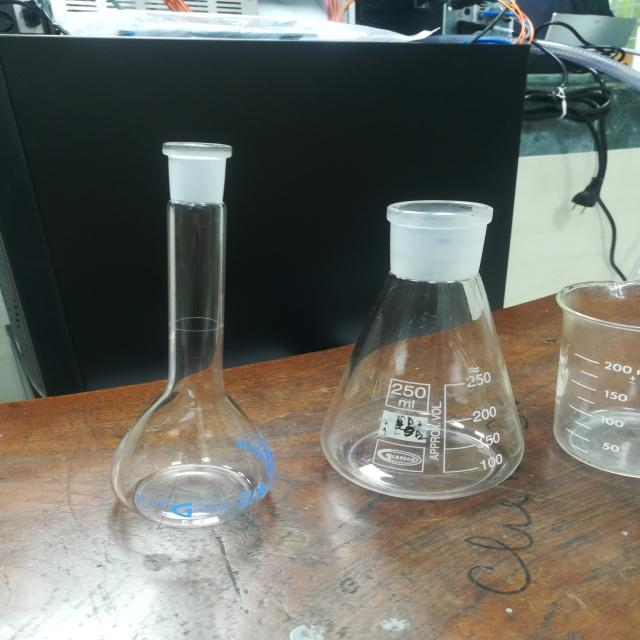Beaker: (540, 208, 640, 498)
Conical_Flask: (306, 187, 533, 519)
Volumetric_Flask: (80, 120, 291, 542)
